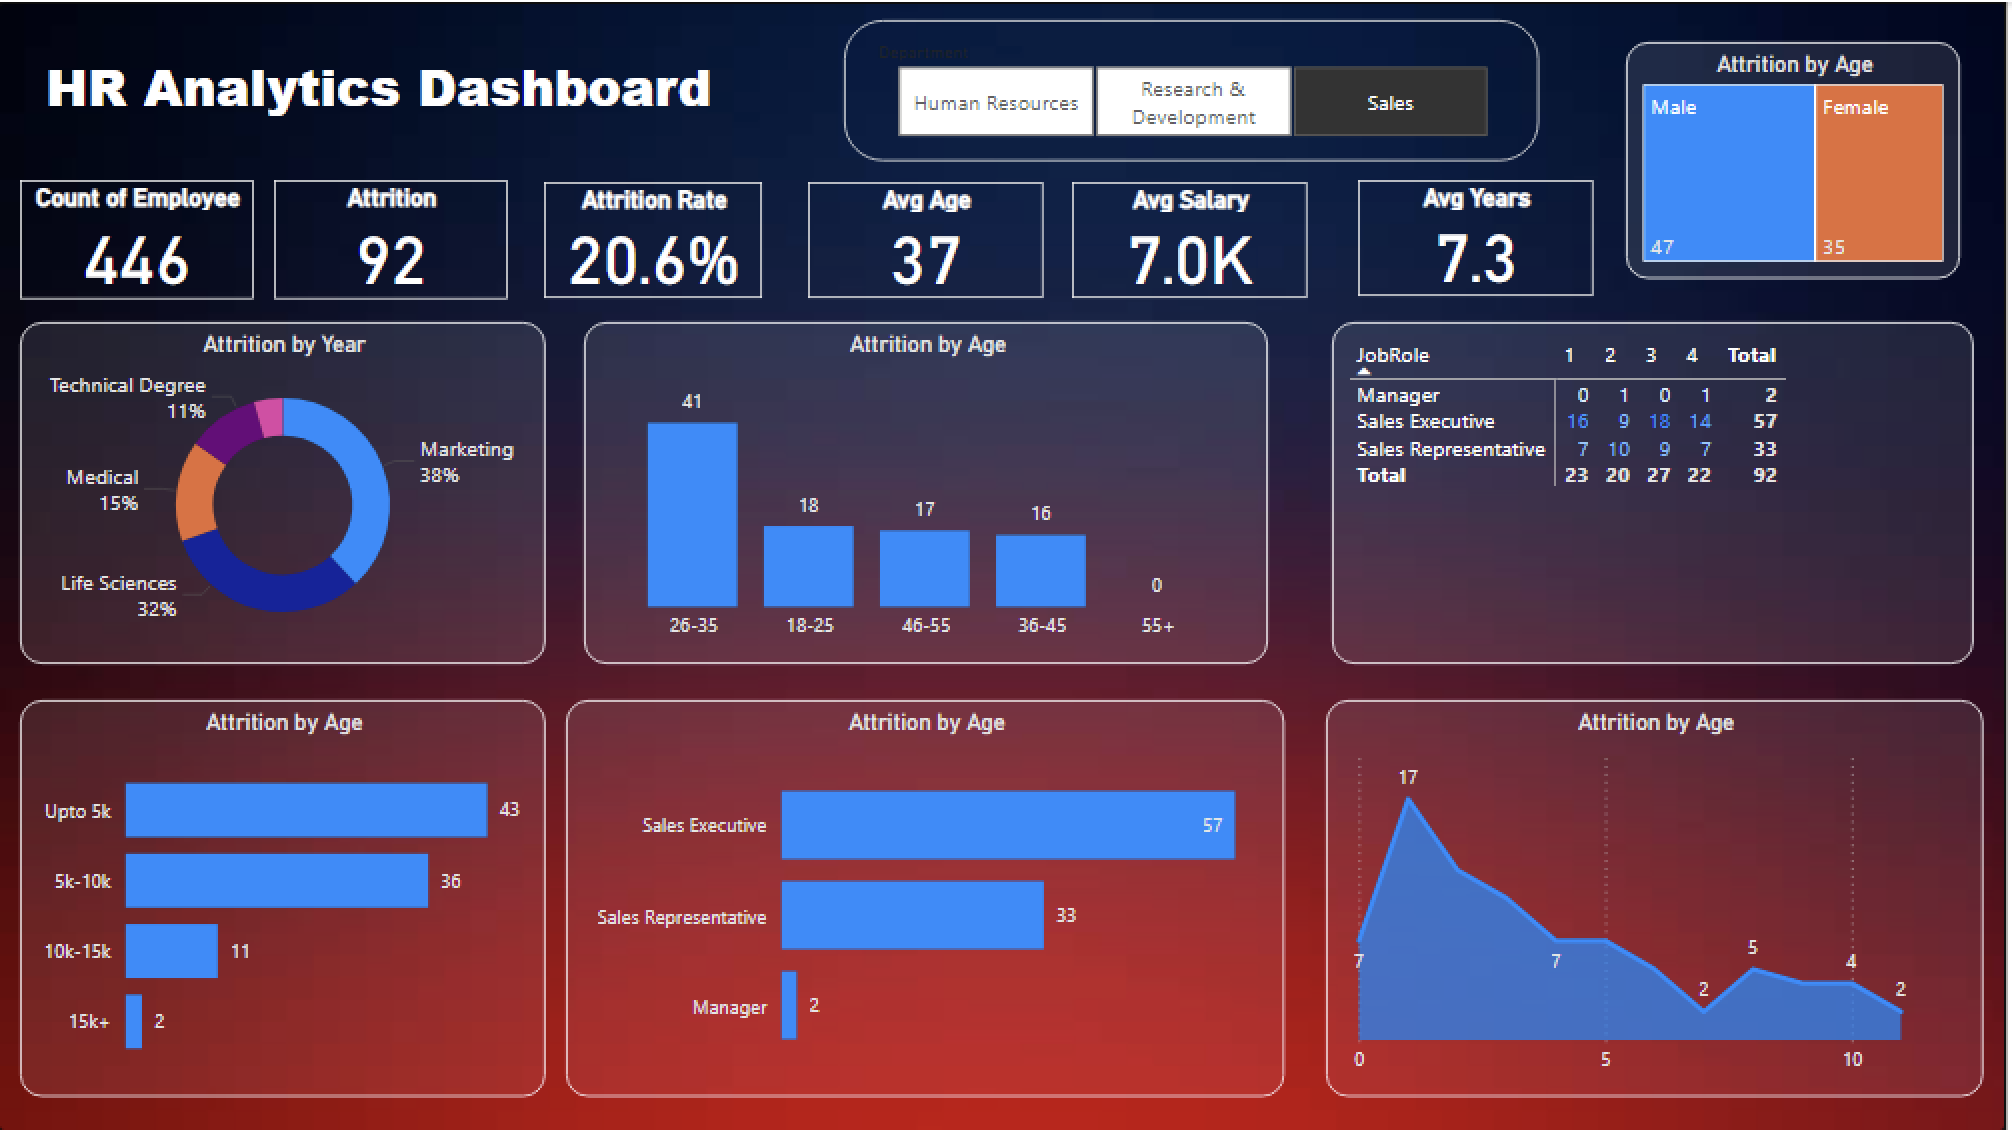

This screenshot's page, from the dashboard's own definition file:
{"tool":"powerbi","page":{"name":"Page 1","canvas":[1280,720],"ordinal":0},"visuals":[{"type":"card","title":"Count of Employee","fields":{"Values":["CountNonNull(HR_Analytics.EmpID)"]},"box":[13.5,113.5,148.6,75.7],"z":0},{"type":"card","title":"Attrition Rate","fields":{"Values":["HR_Analytics.AttritionRate"]},"box":[348.6,114.9,139.2,74.3],"z":1000},{"type":"card","title":"Avg Age","fields":{"Values":["Avg(HR_Analytics.Age)"]},"box":[516.2,114.9,150,74.3],"z":2000},{"type":"card","title":"Attrition","fields":{"Values":["Sum(HR_Analytics.AttritionCount)"]},"box":[175.7,113.5,148.6,75.7],"z":3000},{"type":"card","title":"Avg Salary","fields":{"Values":["Avg(HR_Analytics.MonthlyIncome)"]},"box":[685.1,114.9,150,74.3],"z":4000},{"type":"card","title":"Avg Years","fields":{"Values":["Avg(HR_Analytics.YearsAtCompany)"]},"box":[867.6,113.5,150,74.3],"z":5000},{"type":"donutChart","title":"Attrition by Year","fields":{"Y":["Sum(HR_Analytics.AttritionCount)"],"Category":["HR_Analytics.EducationField"]},"box":[13.5,204.1,335.1,217.6],"z":6000},{"type":"columnChart","title":"Attrition by Age","fields":{"Category":["HR_Analytics.AgeGroup"],"Y":["Sum(HR_Analytics.AttritionCount)"]},"box":[373,204.1,436.5,217.6],"z":6001},{"type":"pivotTable","fields":{"Rows":["HR_Analytics.JobRole"],"Columns":["HR_Analytics.JobSatisfaction"],"Values":["Sum(HR_Analytics.AttritionCount)"]},"box":[850,204.1,409.5,217.6],"z":6002},{"type":"barChart","title":"Attrition by Age","fields":{"Category":["HR_Analytics.SalarySlab"],"Y":["Sum(HR_Analytics.AttritionCount)"]},"box":[13.5,444.6,335.1,252.7],"z":6003},{"type":"barChart","title":"Attrition by Age","fields":{"Category":["HR_Analytics.JobRole"],"Y":["Sum(HR_Analytics.AttritionCount)"]},"box":[362.2,444.6,458.1,252.7],"z":6004},{"type":"treemap","title":"Attrition by Age","fields":{"Group":["HR_Analytics.Gender"],"Values":["Sum(HR_Analytics.AttritionCount)"]},"box":[1037.8,25.3,213.3,151],"z":6005},{"type":"areaChart","title":"Attrition by Age","fields":{"Category":["HR_Analytics.YearsAtCompany"],"Y":["Sum(HR_Analytics.AttritionCount)"]},"box":[845.9,444.6,418.9,252.7],"z":6006},{"type":"slicer","fields":{"Values":["HR_Analytics.Department"]},"box":[539.5,11.6,443.4,89.7],"z":6007},{"type":"textbox","box":[25.7,27,447.3,60.8],"z":6008}]}

Visuals, with their boxes in screenshot pixels (x1, y1, x2, y2), scaled from the page's 1280x720 canvas onto the 2012x1130 screenshot:
"Count of Employee" card: x1=21, y1=178, x2=255, y2=297
"Attrition Rate" card: x1=548, y1=180, x2=767, y2=297
"Avg Age" card: x1=811, y1=180, x2=1047, y2=297
"Attrition" card: x1=276, y1=178, x2=510, y2=297
"Avg Salary" card: x1=1077, y1=180, x2=1313, y2=297
"Avg Years" card: x1=1364, y1=178, x2=1600, y2=295
"Attrition by Year" donutChart: x1=21, y1=320, x2=548, y2=662
"Attrition by Age" columnChart: x1=586, y1=320, x2=1272, y2=662
pivotTable - HR_Analytics.JobRole x HR_Analytics.JobSatisfaction: x1=1336, y1=320, x2=1980, y2=662
"Attrition by Age" barChart: x1=21, y1=698, x2=548, y2=1094
"Attrition by Age" barChart: x1=569, y1=698, x2=1289, y2=1094
"Attrition by Age" treemap: x1=1631, y1=40, x2=1967, y2=277
"Attrition by Age" areaChart: x1=1330, y1=698, x2=1988, y2=1094
slicer - HR_Analytics.Department: x1=848, y1=18, x2=1545, y2=159
textbox: x1=40, y1=42, x2=743, y2=138
